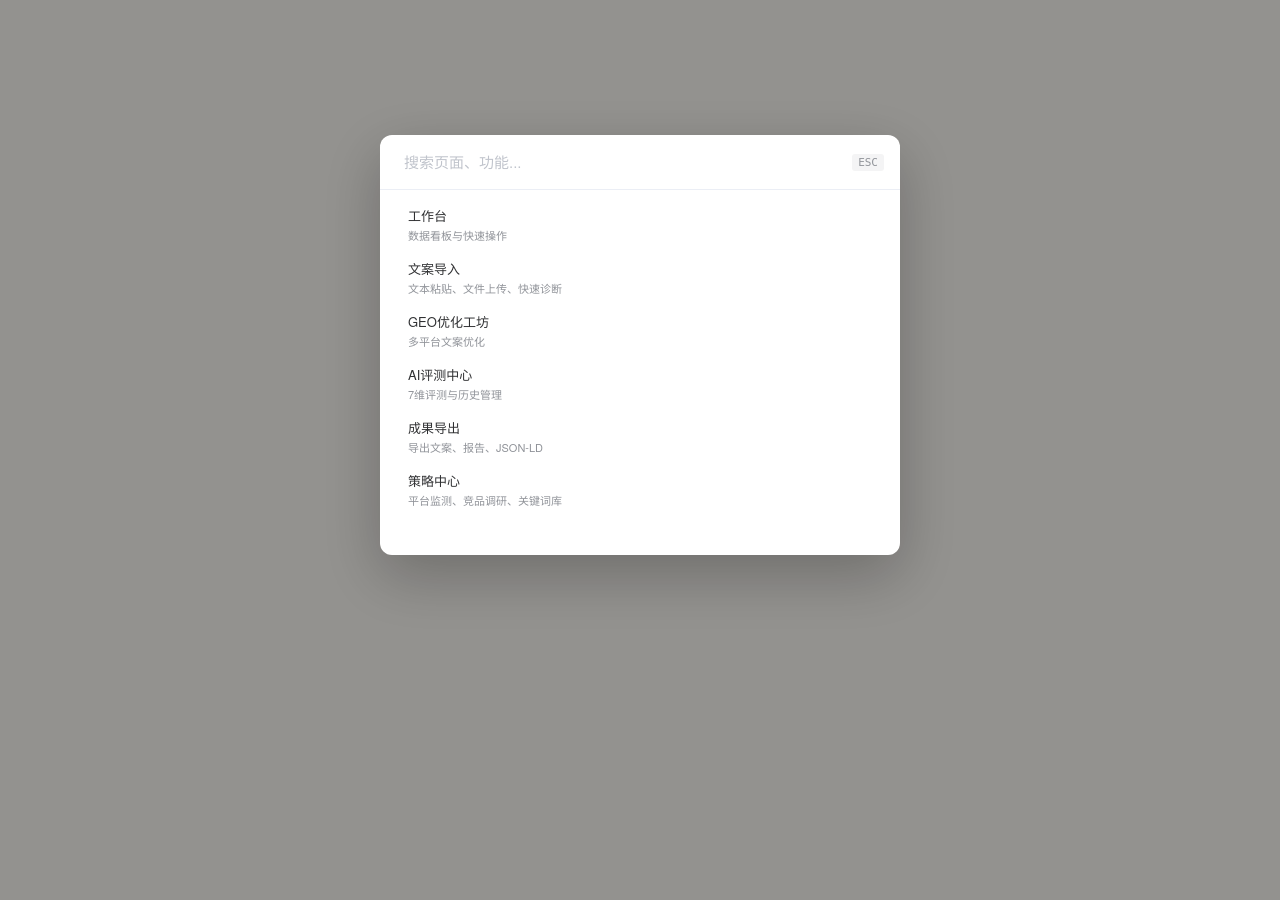
Test: GlobalSearch › Search filtering › shows empty state for no matches
This screenshot has width=1280, height=900.
In the field with class "search-input": (628, 162) [404,154,852,170], type "不存在的页面XYZXYZ"
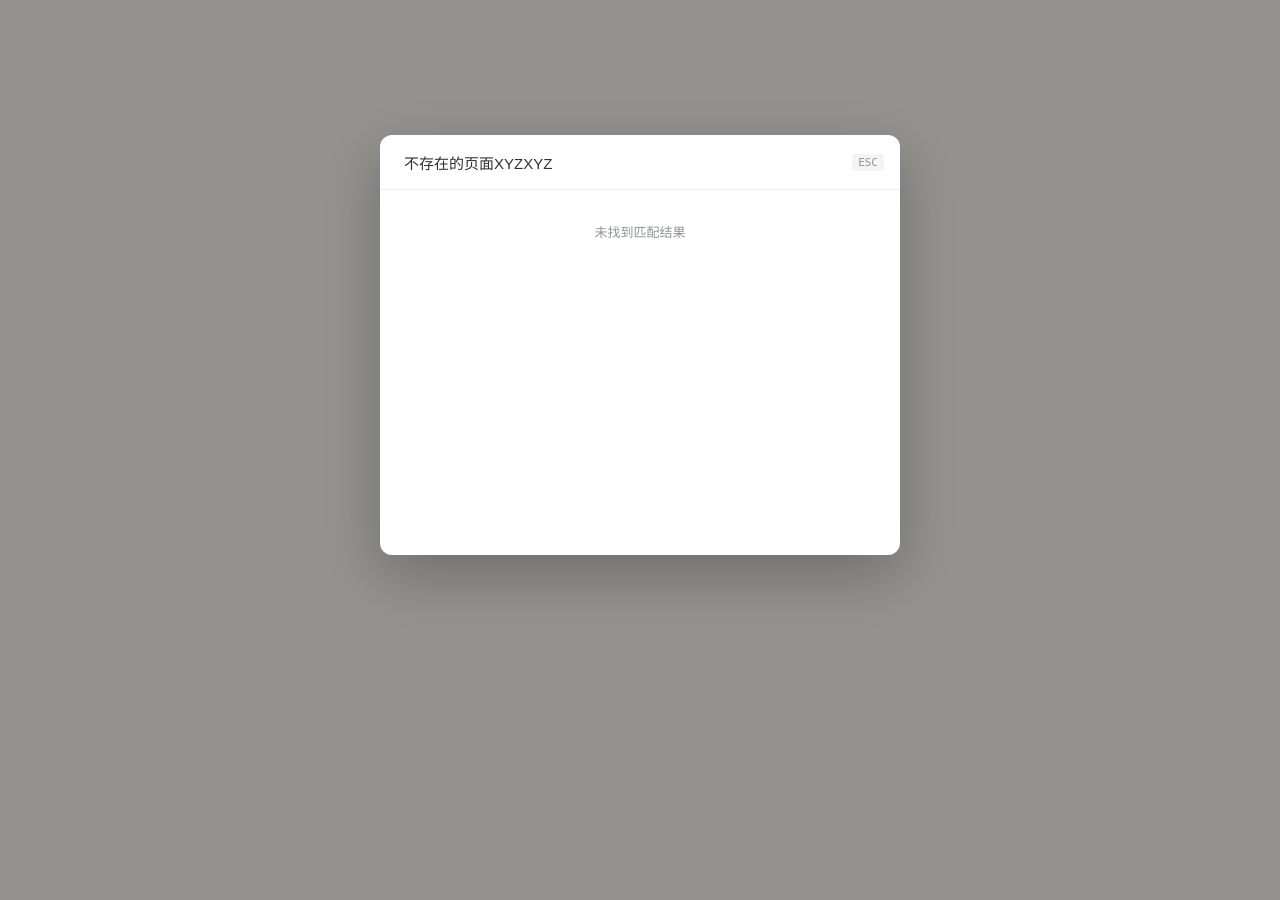
Expected: the text "未找到匹配结果" is shown, [594,222,686,241]
